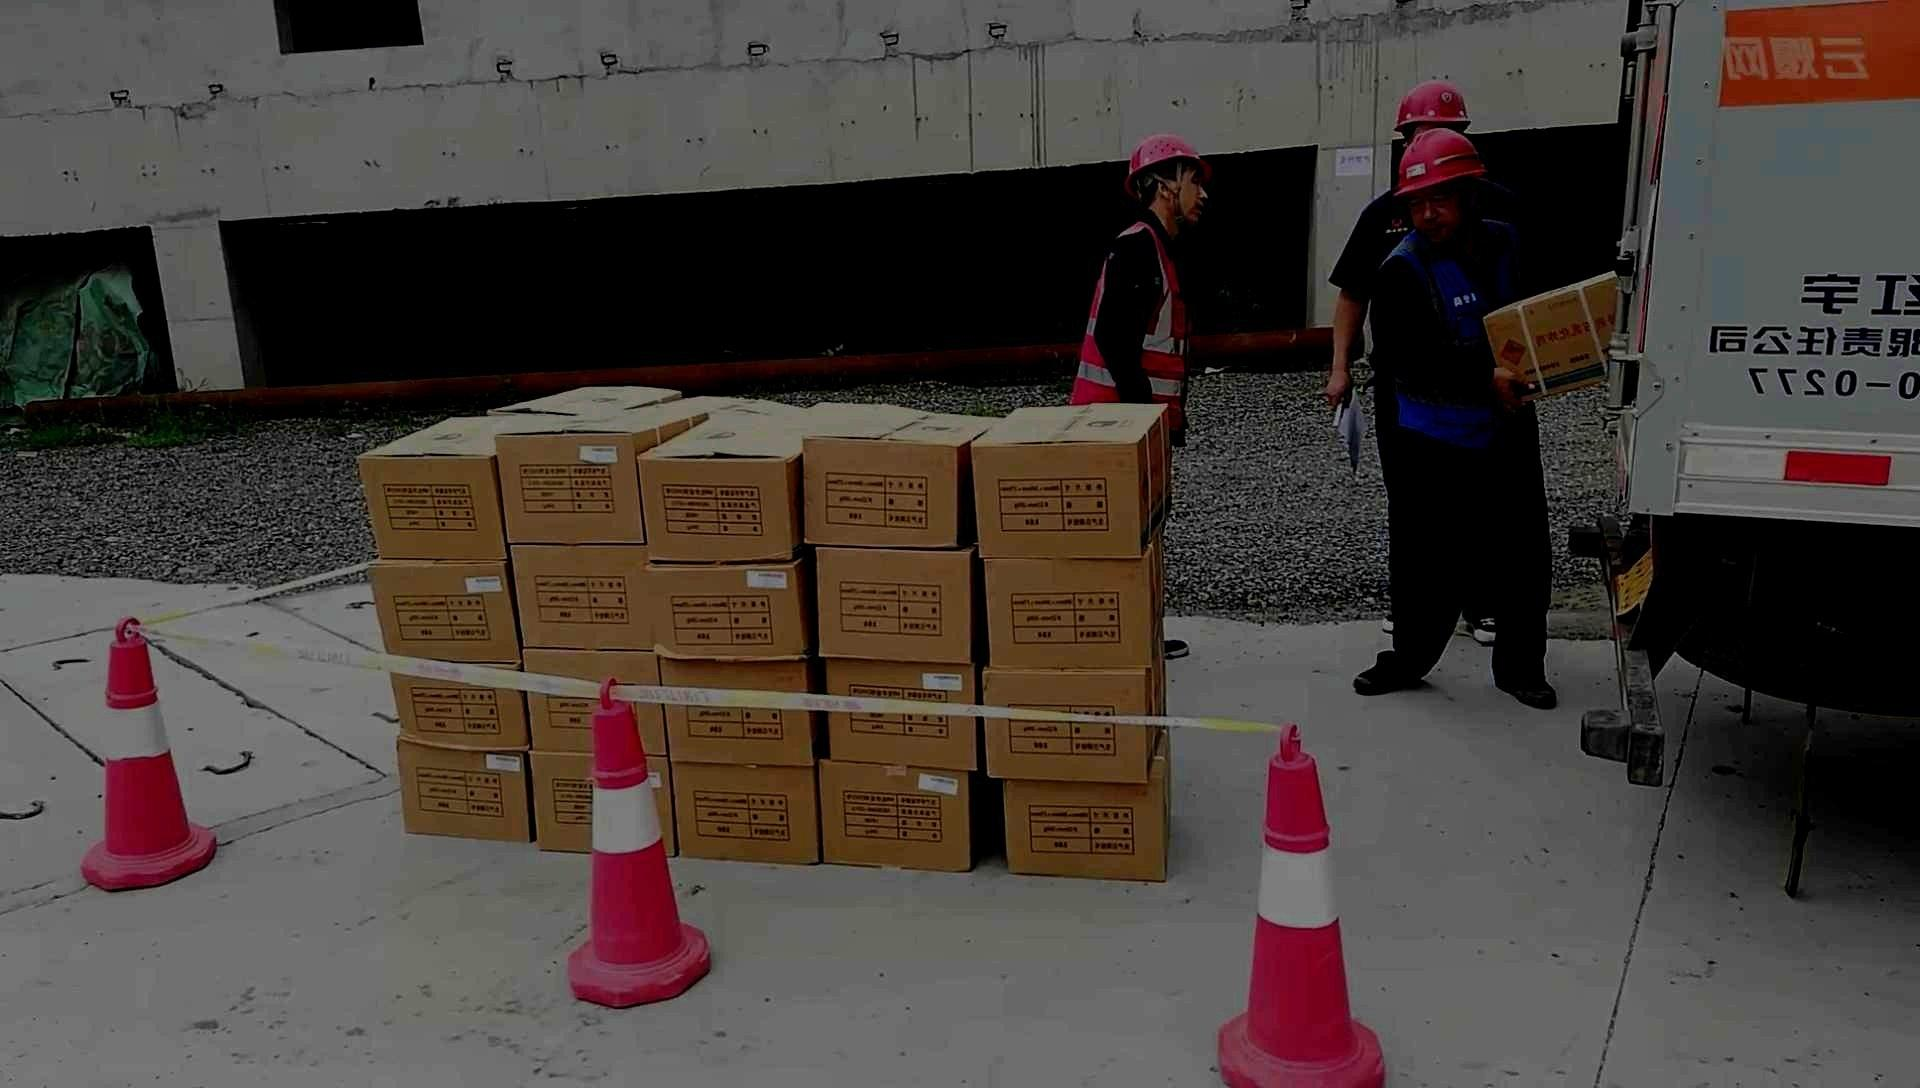helmet: (1393, 128, 1486, 241), (1124, 132, 1211, 223), (1393, 76, 1472, 146)
